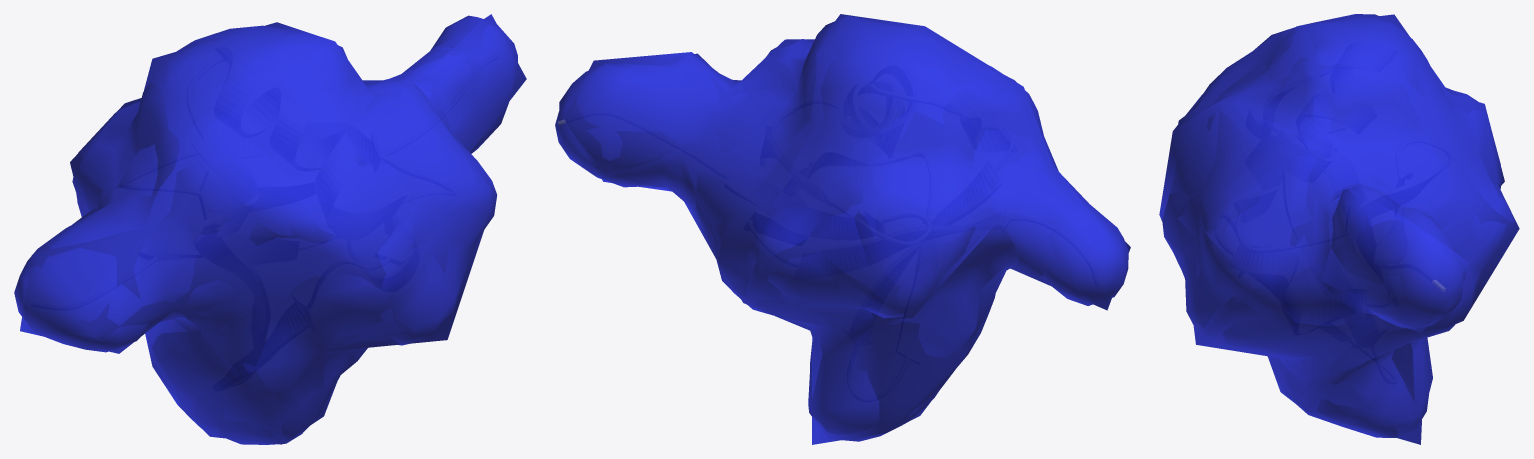
File: 5J17Raf.fbx
The picture shows the model from 3 angles, left to right: view 1: azimuth 30°, elevation 25°; view 2: azimuth 150°, elevation 25°; view 3: azimuth 270°, elevation 25°; orthographic projection. The views are drawn at different scales.
Parts seen in each view (by area): view 1: CoarseMS_5j17, 5J17High, 5J17Low, 5J17; view 2: CoarseMS_5j17, 5J17High, 5J17Low, 5J17; view 3: CoarseMS_5j17, 5J17High, 5J17Low, 5J17.
Part boxes in pixels (bbox=[...]): CoarseMS_5j17: bbox=[14, 15, 517, 444]; 5J17High: bbox=[14, 16, 517, 444]; 5J17Low: bbox=[20, 14, 526, 444]; 5J17: bbox=[20, 14, 526, 444]; CoarseMS_5j17: bbox=[555, 16, 1128, 441]; 5J17High: bbox=[555, 16, 1128, 441]; 5J17Low: bbox=[564, 14, 1130, 444]; 5J17: bbox=[564, 14, 1130, 444]; CoarseMS_5j17: bbox=[1162, 14, 1514, 437]; 5J17High: bbox=[1162, 14, 1513, 437]; 5J17Low: bbox=[1159, 14, 1519, 444]; 5J17: bbox=[1159, 15, 1519, 444].
Bounding box in the file's own units: 49.49 × 36.03 × 29.66.
